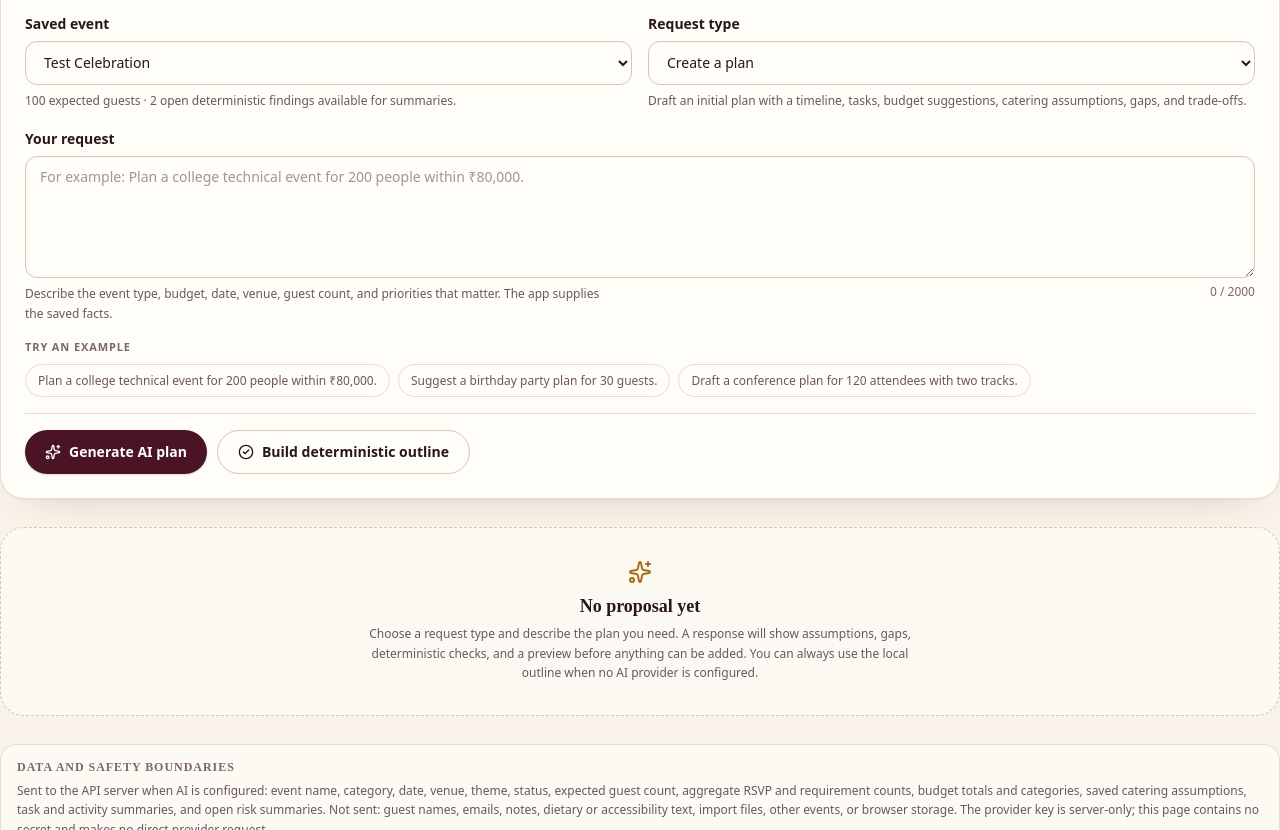
Scenario: AiPlanningPage › shows a provider failure without changing saved planning data
The image size is (1280, 830).
(page scrolled)
Click the button "Suggest a birthday party plan for 30 guests.".
click(534, 381)  # box [398,364,670,397]
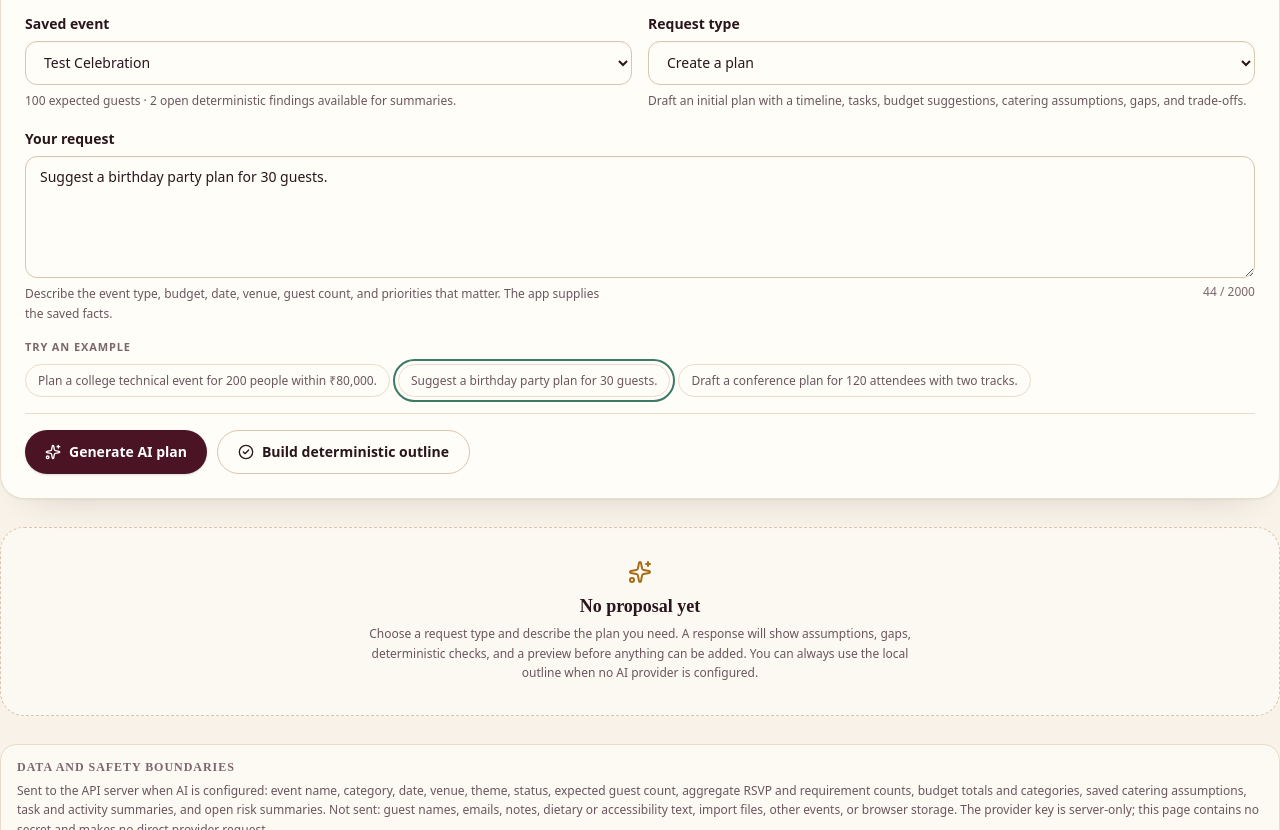
Click the button "Generate AI plan".
click(116, 452)  # box [25,430,207,474]
(page scrolled)
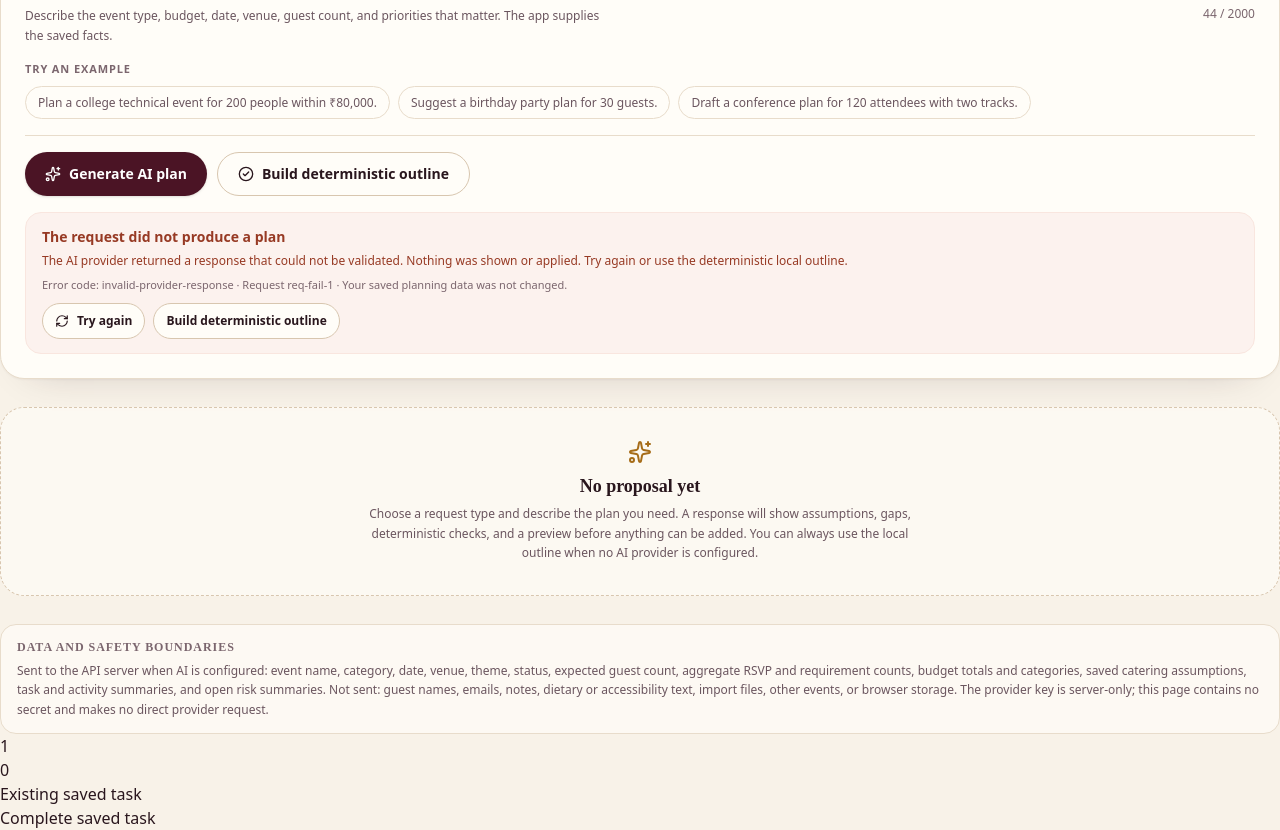
Check: the text "The request did not produce a plan" is shown, box [42,227,286,246]
Check: the text "Nothing was shown or applied" is shown, box [42,252,848,269]
Check: the text "Error code: invalid-provider-response" is shown, box [42,277,567,292]
